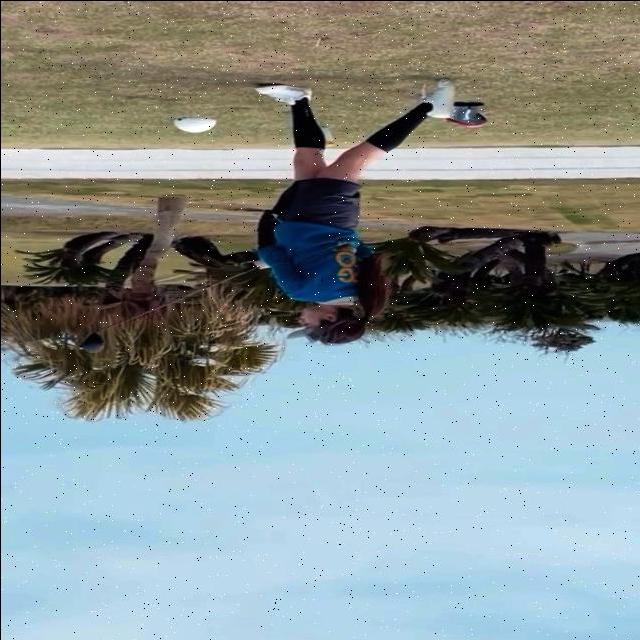golf club-handle: (79, 265, 265, 351)
golf club-head: (83, 333, 104, 348)
